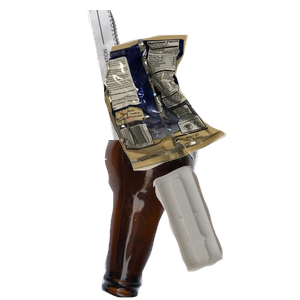glass: (99, 140, 300, 300)
paper: (85, 10, 224, 190)
plastic: (150, 163, 300, 300)
trash: (101, 32, 300, 195)
